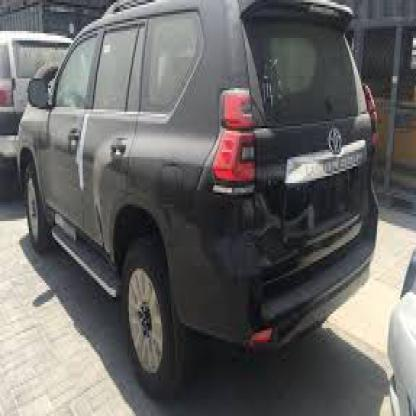jeep: (16, 0, 381, 400)
